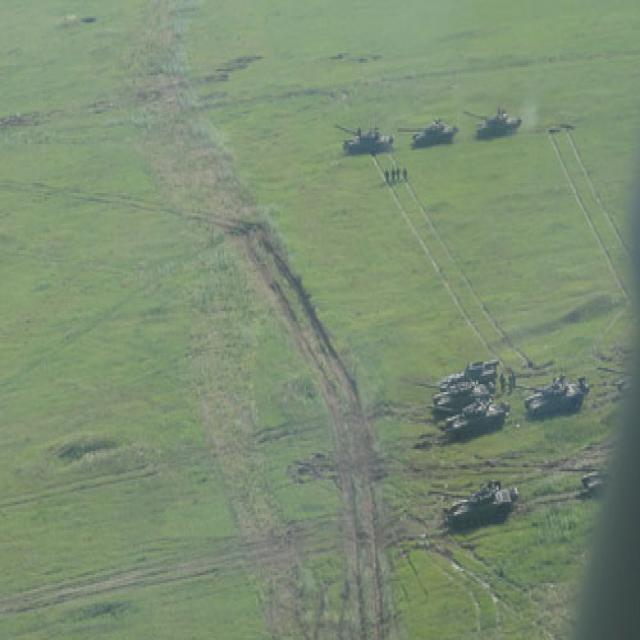tank: (418, 362, 504, 422), (444, 478, 520, 534), (523, 375, 588, 419), (462, 97, 526, 137), (332, 120, 396, 156), (400, 103, 450, 149)
